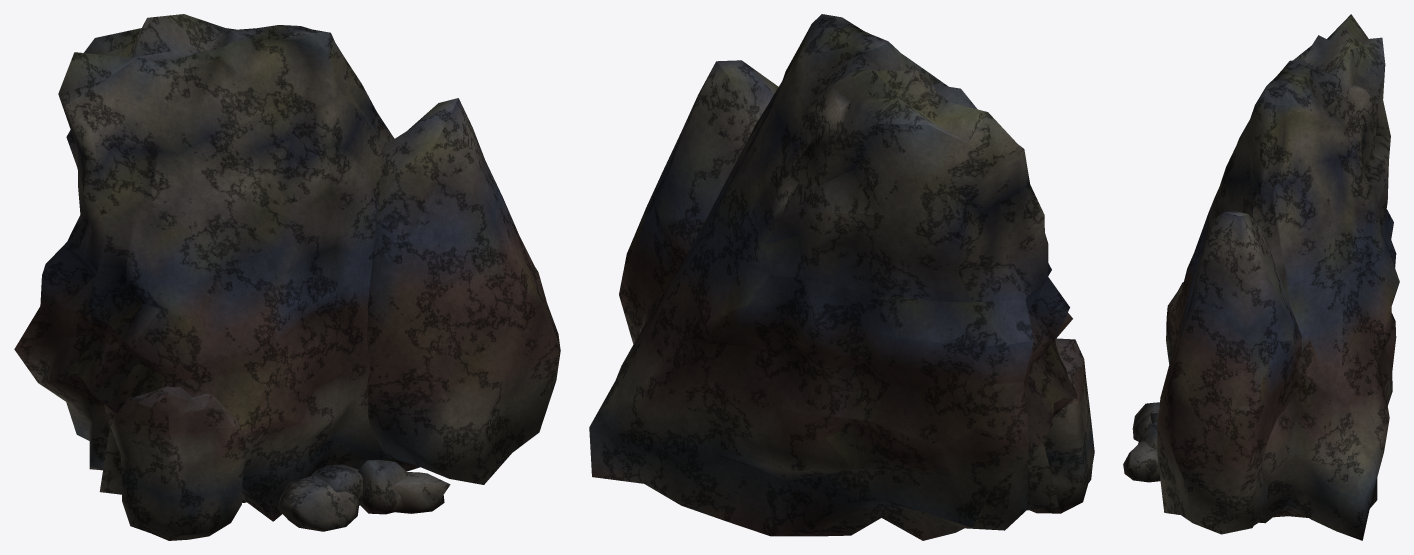
File: cliff_b.glb
3 views of the same model, side by side, from view 1: azimuth 30°, elevation 25°; view 2: azimuth 150°, elevation 25°; view 3: azimuth 270°, elevation 25° (orthographic). The views are drawn at different scales.
Visible parts, largest first — view 1: cliff_b; view 2: cliff_b; view 3: cliff_b.
Part boxes in pixels (bbox=[...]): cliff_b: bbox=[14, 14, 560, 540]; cliff_b: bbox=[589, 14, 1094, 540]; cliff_b: bbox=[1123, 14, 1399, 540].
Bounding box in the file's own units: 8.82 × 8.5 × 5.35.
1 material, 1 textured.
